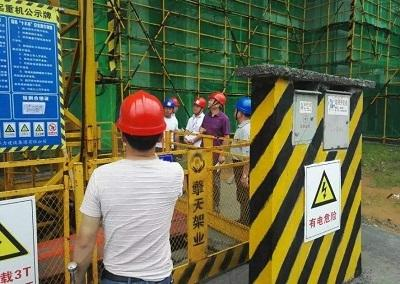helmet: (115, 91, 168, 140), (236, 98, 256, 114), (207, 92, 226, 108), (193, 96, 207, 109), (165, 97, 174, 110)
no_wear: (88, 158, 176, 280), (233, 124, 252, 160), (205, 114, 230, 138), (188, 114, 203, 144)
